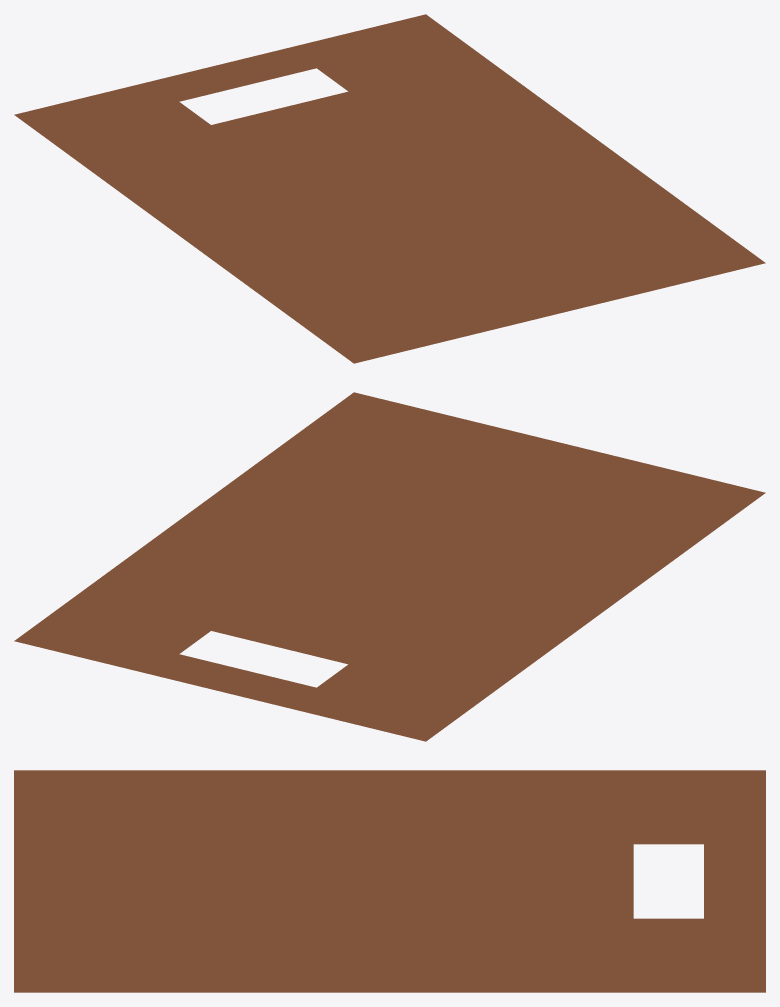
The model's file is cutting_board.glb.
The picture shows the model from 3 angles, top to bottom: view 1: azimuth 30°, elevation 25°; view 2: azimuth 150°, elevation 25°; view 3: azimuth 270°, elevation 25°; orthographic projection. The views are drawn at different scales.
Parts seen in each view (by area): view 1: Plane.001; view 2: Plane.001; view 3: Plane.001.
Boxes of the visible parts, <box> form: Plane.001: <box>14,14,765,363</box>; Plane.001: <box>14,392,765,741</box>; Plane.001: <box>14,770,765,992</box>.
Bounding box in the file's own units: 4.57 × 0 × 6.53.
